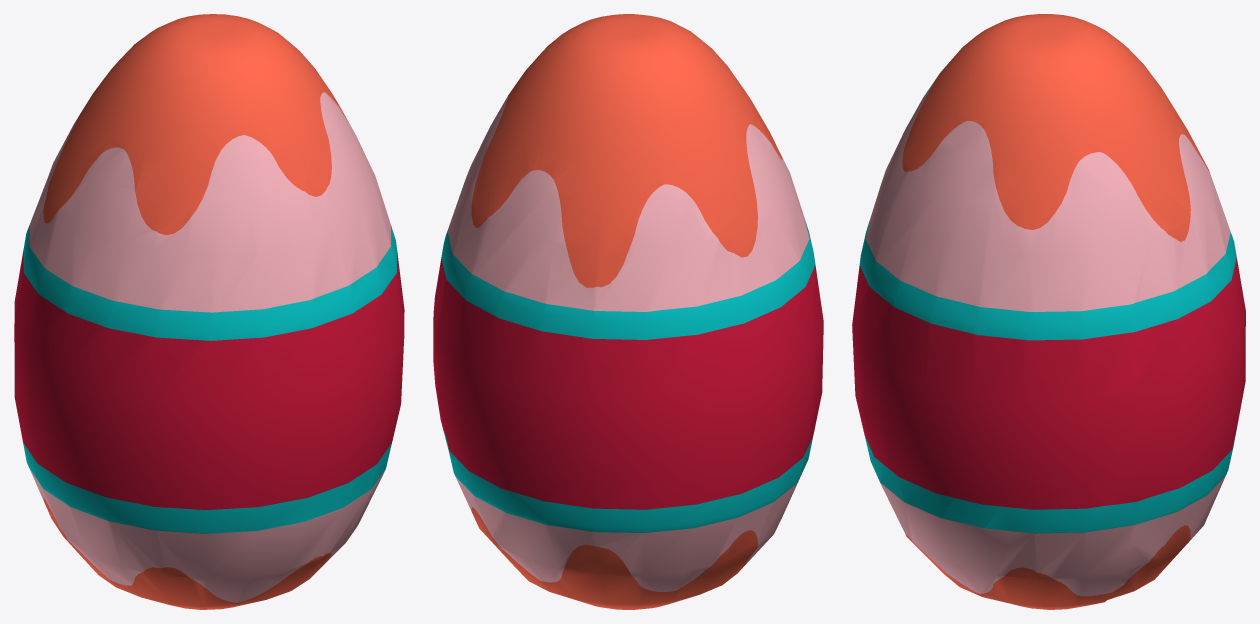
The model's file is egg.dae.
3 views of the same model, side by side, from view 1: azimuth 30°, elevation 25°; view 2: azimuth 150°, elevation 25°; view 3: azimuth 270°, elevation 25° (orthographic).
Visible parts, largest first — view 1: Group_001; view 2: Group_001; view 3: Group_001.
Boxes of the visible parts, box(x1,y1,x2,y2) form: Group_001: box(14, 14, 404, 609); Group_001: box(433, 14, 823, 609); Group_001: box(852, 14, 1245, 609).
Size of the model in its own units: 187 by 293 by 188.
